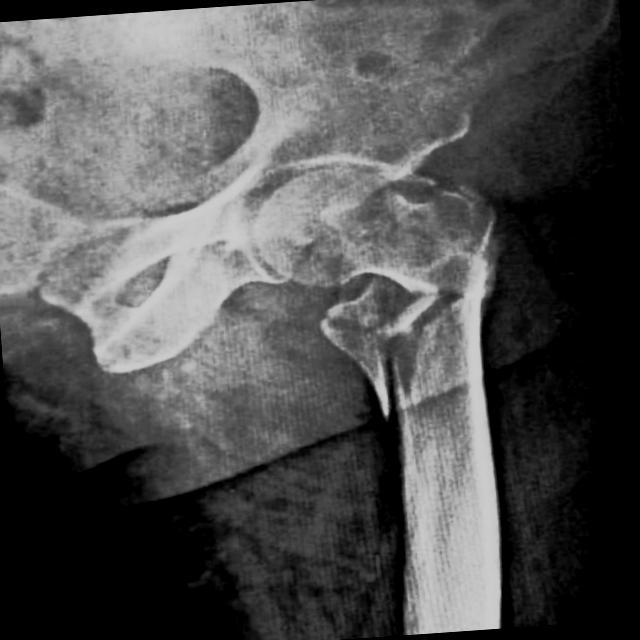Comminuted Fracture: (360, 341, 426, 424)
